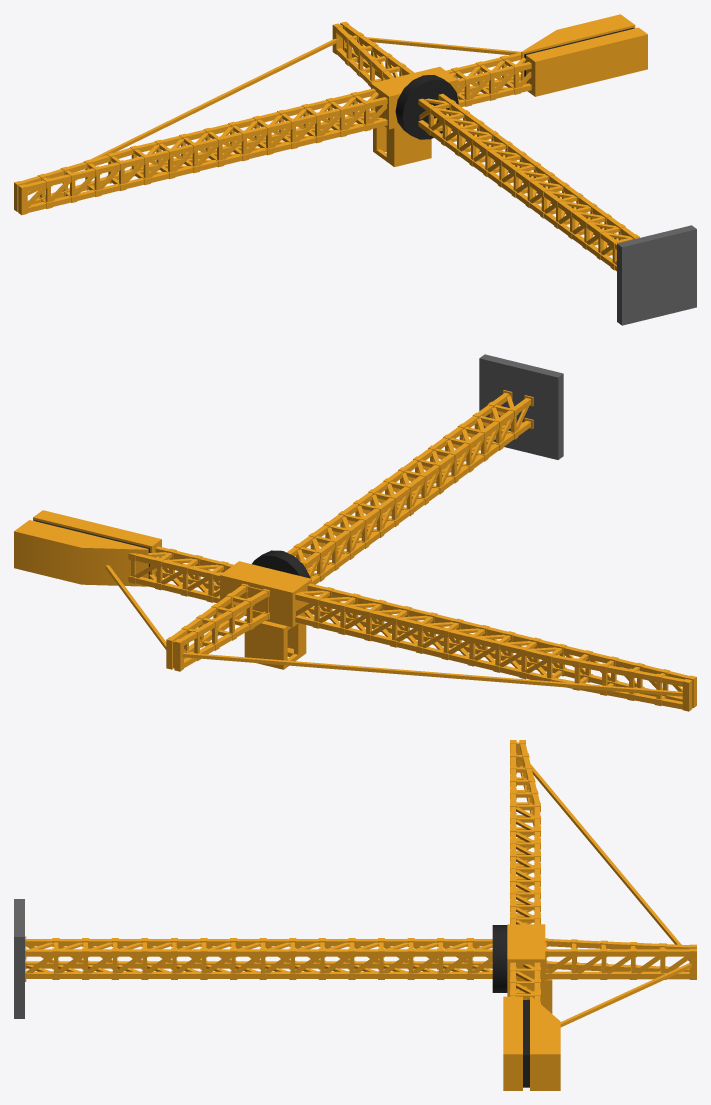
Rendered from Tower Crane.fbx.
3 renders of one model, top to bottom at view 1: azimuth 30°, elevation 25°; view 2: azimuth 150°, elevation 25°; view 3: azimuth 270°, elevation 25°, orthographic. The views are drawn at different scales.
Visible parts, largest first — view 1: Cube.001, Cube; view 2: Cube.001, Cube; view 3: Cube.001, Cube.
Part boxes in pixels (left/top/right/bottom): Cube.001: left=14, top=14, right=647, bottom=215; Cube: left=402, top=80, right=696, bottom=325; Cube.001: left=14, top=510, right=696, bottom=711; Cube: left=287, top=354, right=563, bottom=584; Cube.001: left=492, top=740, right=696, bottom=1090; Cube: left=14, top=899, right=492, bottom=1018.
Size of the model in its own units: 107 by 15.49 by 96.95.
